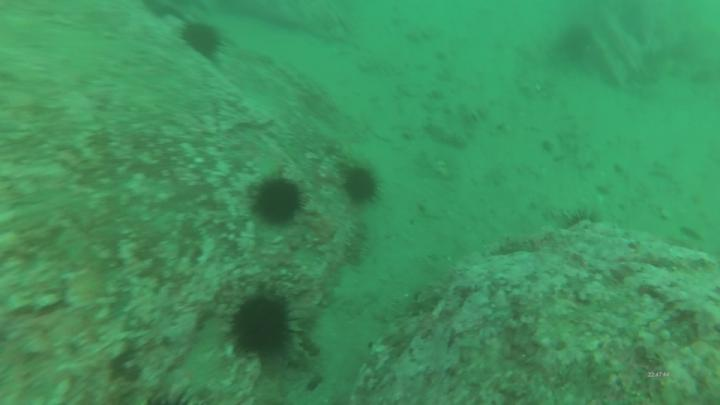echinus: (222, 288, 304, 364), (248, 172, 307, 230), (178, 19, 223, 63), (341, 166, 381, 207), (562, 203, 601, 234)
holothurian: (347, 221, 372, 269)
